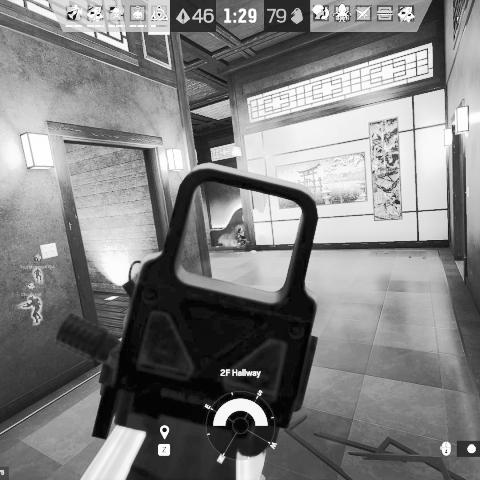Character: (235, 227, 246, 246)
Friend_label: (19, 252, 55, 269), (21, 282, 41, 297)
Head: (237, 227, 242, 234)
